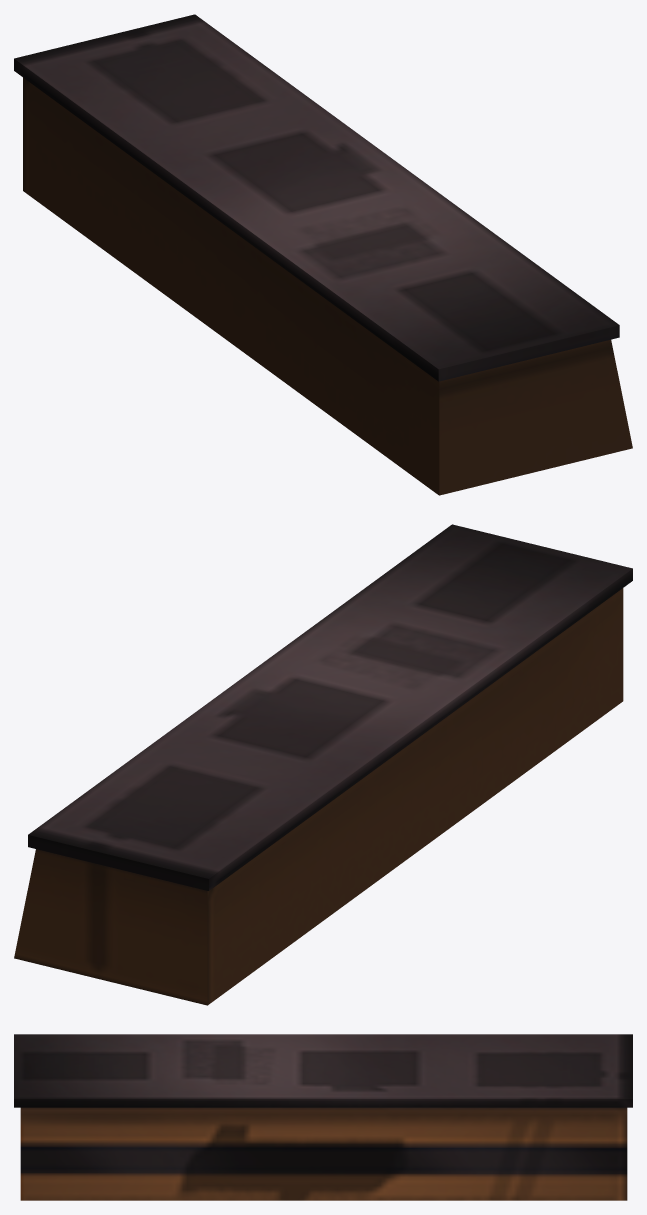
The model's file is Tx_props_cashier_counter_6.fbx.
3 views of the same model, one above another, from view 1: azimuth 30°, elevation 25°; view 2: azimuth 150°, elevation 25°; view 3: azimuth 270°, elevation 25° (orthographic). The views are drawn at different scales.
Visible parts, largest first — view 1: polySurface20; view 2: polySurface20; view 3: polySurface20.
Boxes of the visible parts, <box> form: polySurface20: <box>14,14,632,495</box>; polySurface20: <box>14,524,632,1005</box>; polySurface20: <box>14,1034,632,1200</box>.
Bounding box in the file's own units: 5.29 × 3.32 × 19.55.
